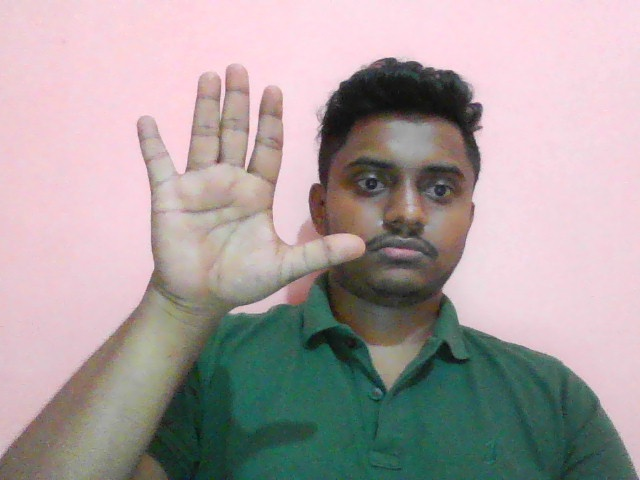Hello: (135, 61, 368, 318)
